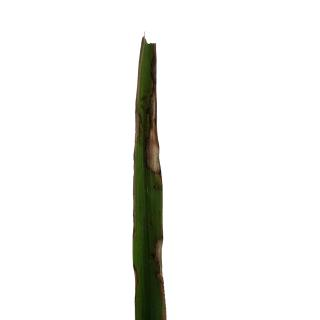Hawar-Daun: (139, 92, 161, 183), (151, 232, 165, 298)
